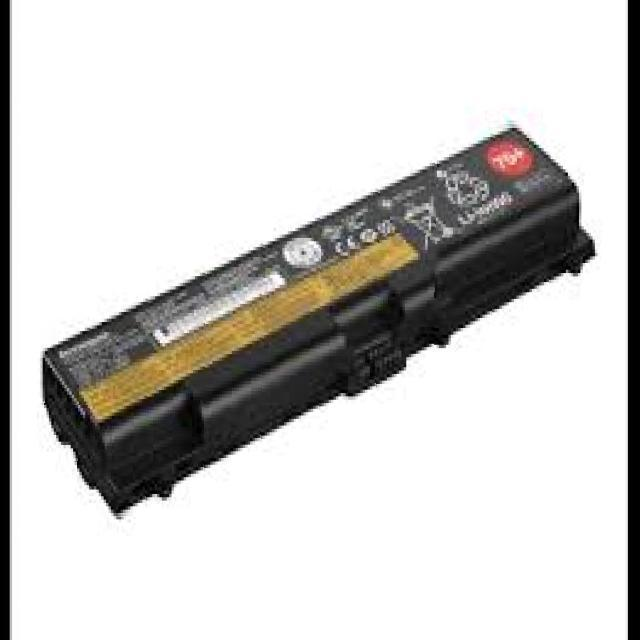Battery: (28, 98, 616, 531)
